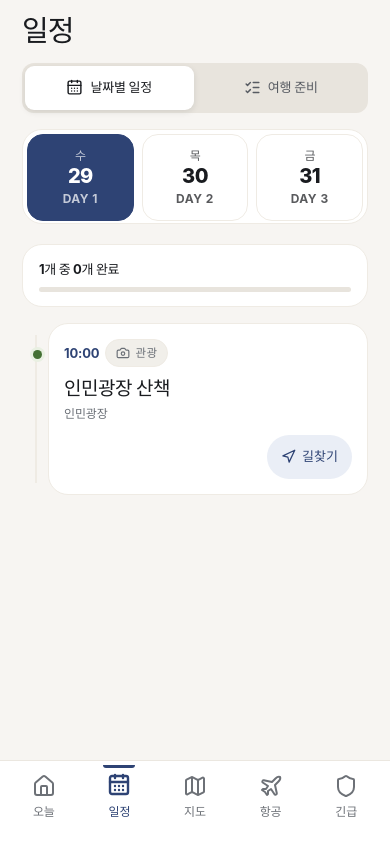
Test: SharedTripPage › 지도 탭을 다시 열어도 Google 지도 객체를 중복 생성하지 않는다
The width and height of the screenshot is (390, 844).
Click the button "지도" at (195, 798), box [157, 770, 233, 825]
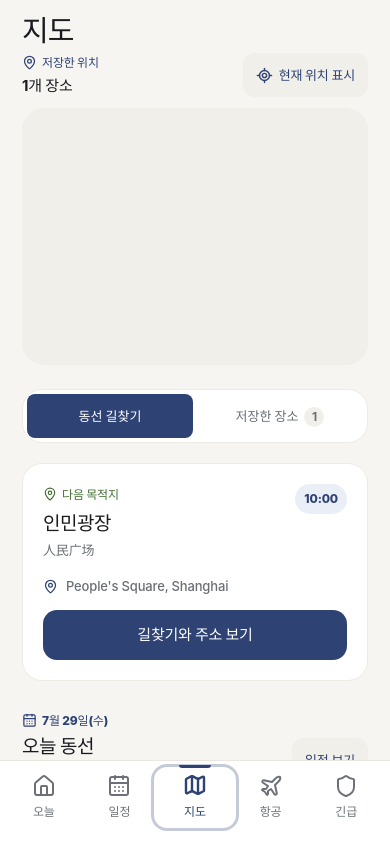
Click the button "일정" at (119, 798), box [82, 770, 157, 825]
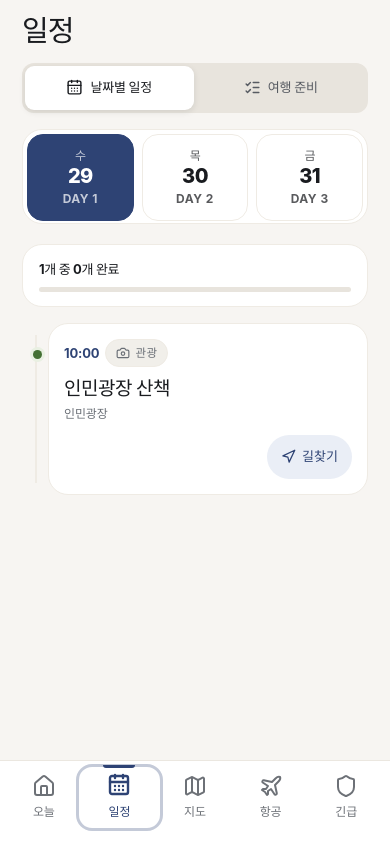
Click the button "지도" at (195, 798), box [157, 770, 233, 825]
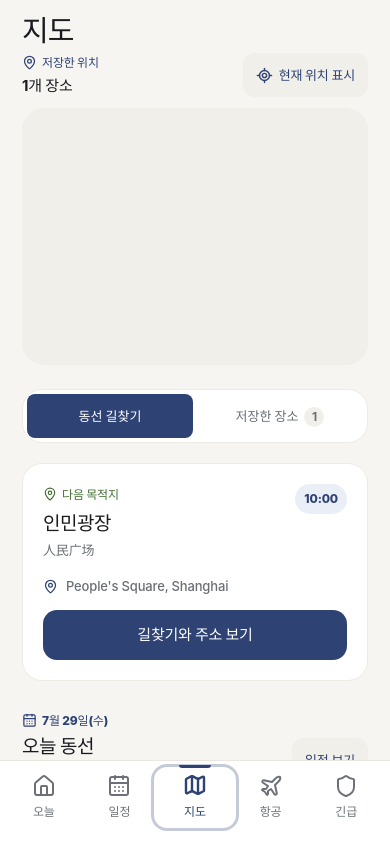
expect the element named "저장 장소 지도" is shown: met, box [22, 53, 368, 365]
